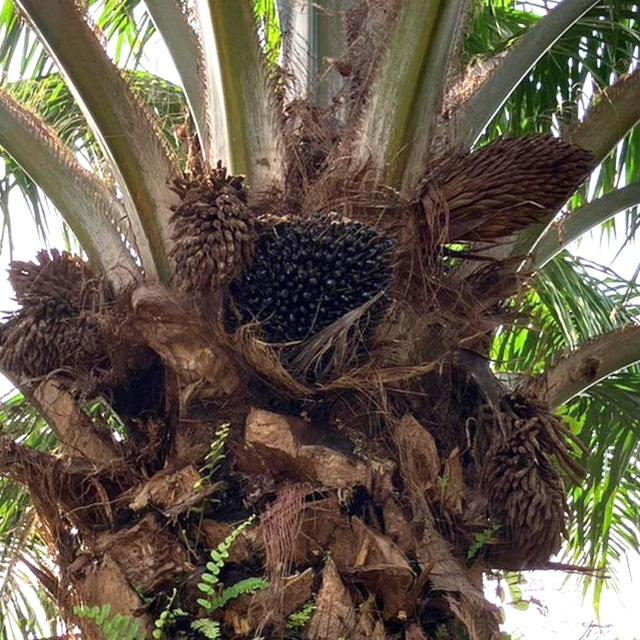unripe: (229, 216, 398, 389)
